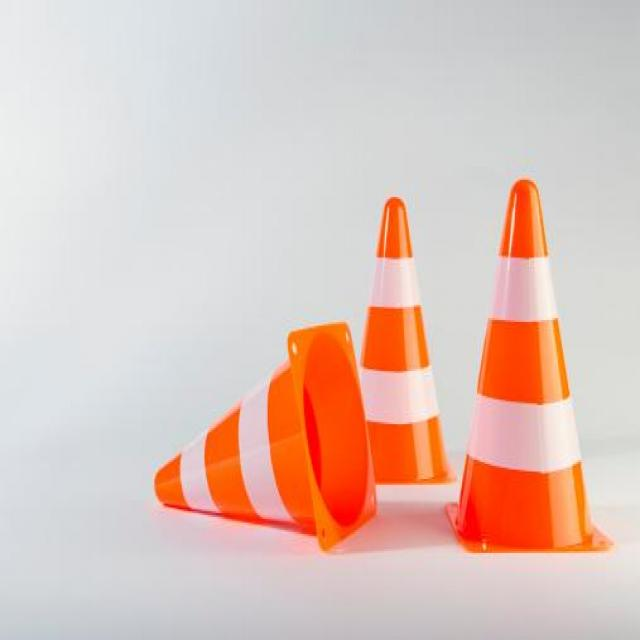Cone: (448, 176, 614, 557), (153, 320, 381, 555), (354, 193, 456, 487)
